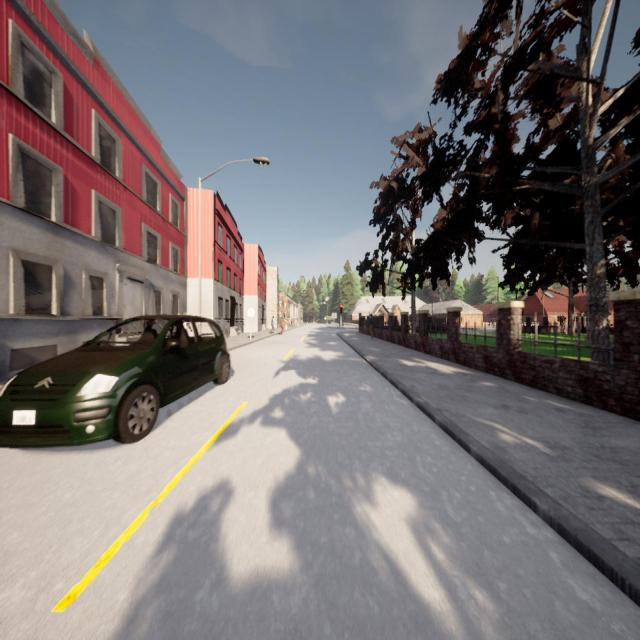Pedestrian: (368, 314, 376, 339), (270, 315, 274, 333), (280, 316, 284, 334)
Traffic_Signs: (247, 308, 255, 318), (324, 316, 327, 320)
Vehicle: (0, 315, 230, 446)
traffic_light: (340, 304, 342, 314)
